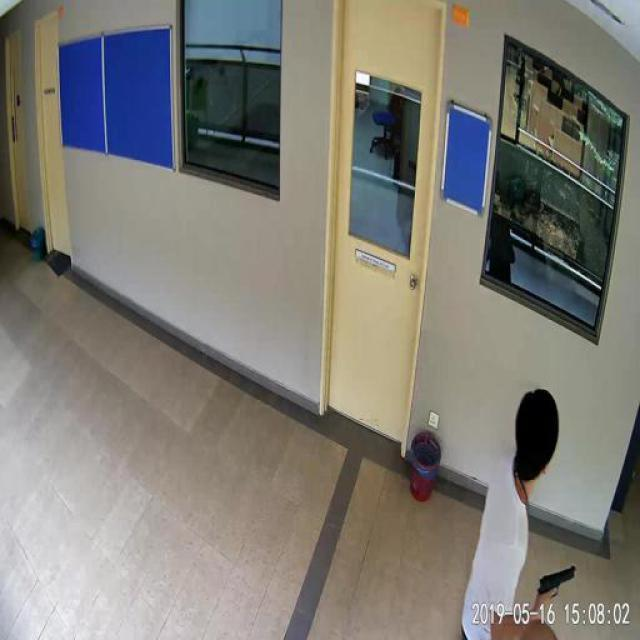weapon: (538, 565, 576, 600)
